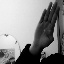b: (33, 1, 61, 52)
